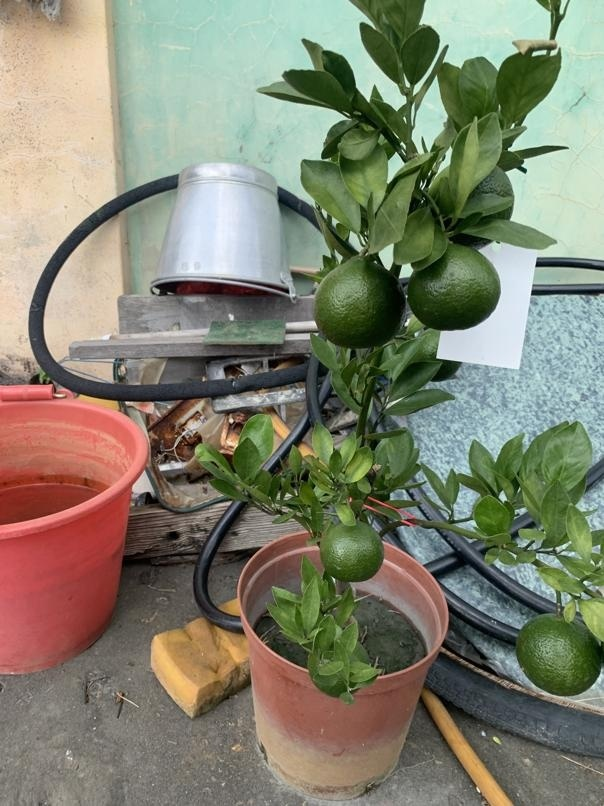Tangerine: (405, 237, 500, 332), (313, 257, 405, 348), (513, 609, 602, 696), (317, 516, 386, 585)
